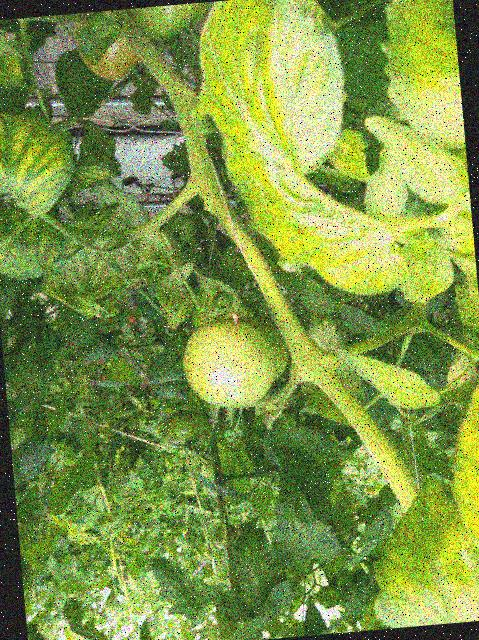b_green: (179, 314, 277, 413), (127, 1, 215, 47), (234, 312, 290, 384), (159, 407, 213, 457), (199, 395, 238, 424), (166, 210, 197, 244), (212, 522, 239, 550)
b_half_ripened: (73, 17, 143, 83)
